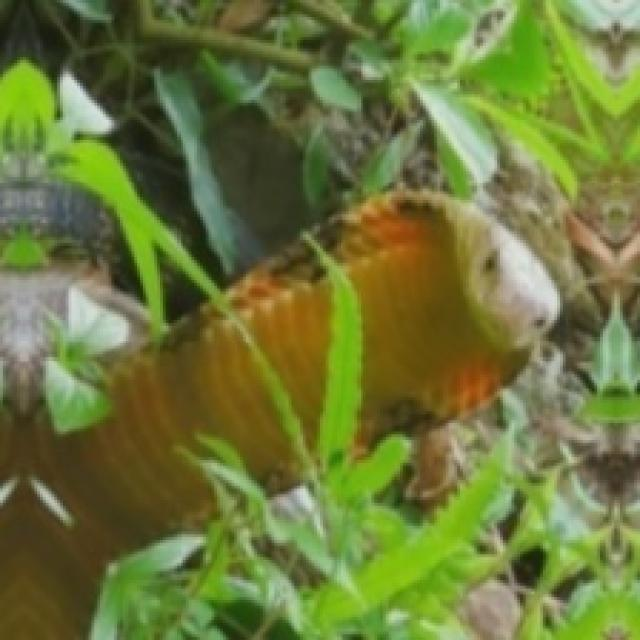king cobra: (0, 306, 292, 639), (325, 191, 559, 437), (229, 245, 330, 433), (131, 162, 211, 255), (0, 178, 108, 240)
